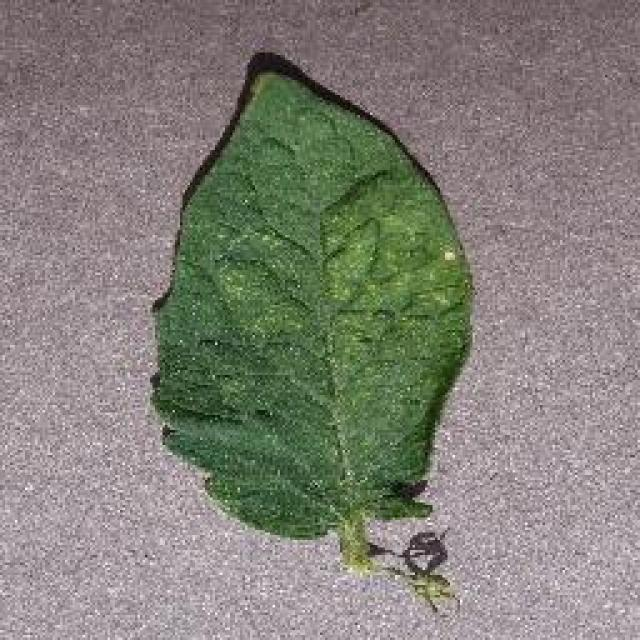Tomato mosaic virus leaf: (150, 65, 478, 527)
